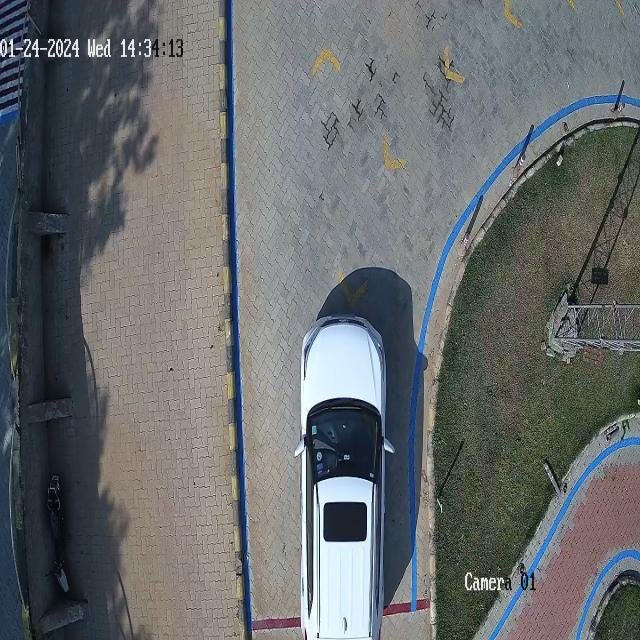car: (295, 318, 394, 638)
